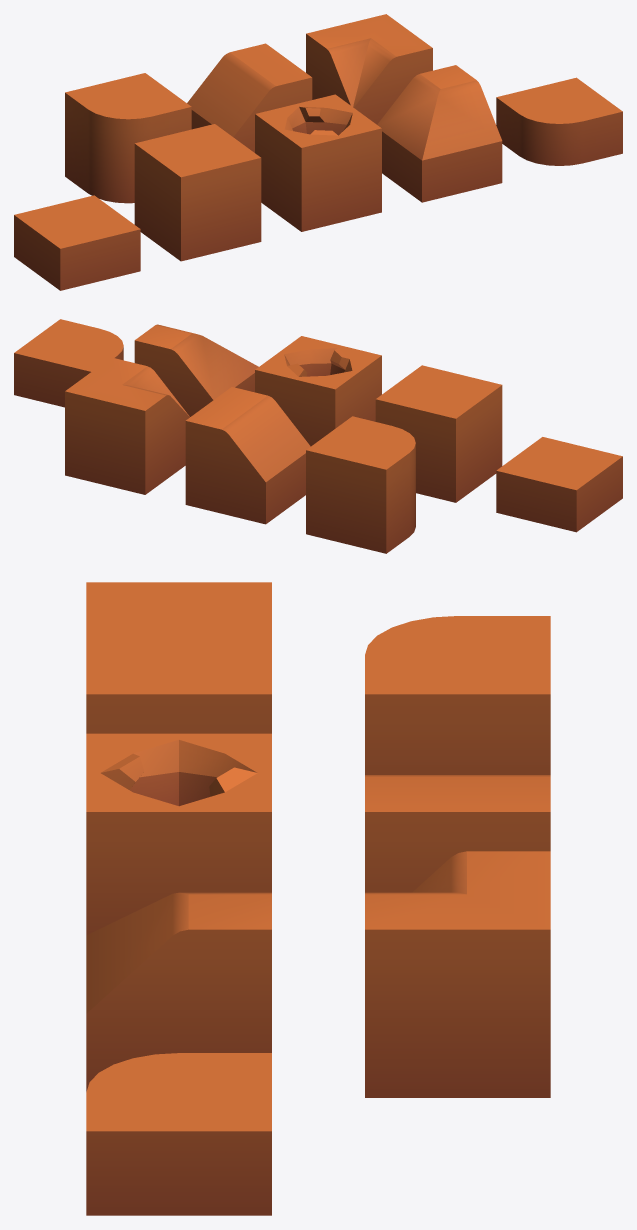
File: kaykit_space_base_ground.glb
3 renders of one model, top to bottom at view 1: azimuth 30°, elevation 25°; view 2: azimuth 150°, elevation 25°; view 3: azimuth 270°, elevation 25°, orthographic. The views are drawn at different scales.
Parts seen in each view (by area): view 1: terrain_tall, terrain_mining, terrain_slope_outer_corner, terrain_tall_curved, terrain_slope_inner_corner, terrain_low, terrain_low_curved, terrain_slope; view 2: terrain_slope, terrain_slope_inner_corner, terrain_tall_curved, terrain_tall, terrain_mining, terrain_low, terrain_slope_outer_corner, terrain_low_curved; view 3: terrain_slope_inner_corner, terrain_mining, terrain_low_curved, terrain_slope_outer_corner, terrain_tall_curved, terrain_tall, terrain_slope, terrain_low.
Part boxes in pixels (x1,y1,x2,y2): terrain_tall: (134, 124, 261, 261); terrain_mining: (255, 94, 381, 231); terrain_slope_outer_corner: (377, 65, 502, 202); terrain_tall_curved: (65, 73, 191, 203); terrain_slope_inner_corner: (306, 14, 432, 124); terrain_low: (14, 195, 140, 290); terrain_low_curved: (496, 77, 622, 165); terrain_slope: (187, 43, 312, 152); terrain_slope: (185, 387, 310, 524); terrain_slope_inner_corner: (65, 357, 189, 494); terrain_tall_curved: (306, 416, 415, 553); terrain_tall: (375, 365, 502, 502); terrain_mining: (255, 336, 381, 446); terrain_low: (496, 437, 622, 532); terrain_slope_outer_corner: (134, 324, 258, 416); terrain_low_curved: (14, 319, 123, 407); terrain_slope_inner_corner: (365, 851, 550, 1097); terrain_mining: (86, 733, 271, 935); terrain_low_curved: (86, 1053, 271, 1215); terrain_slope_outer_corner: (86, 892, 271, 1091); terrain_tall_curved: (365, 616, 550, 774); terrain_tall: (86, 616, 271, 733); terrain_slope: (365, 775, 550, 892); terrain_low: (86, 582, 271, 615).
Bounding box in the file's own units: 14 × 2.07 × 5.
Materials: 8 (8 with a texture image).
